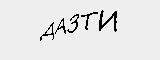А: (53, 13, 67, 40)
Д: (39, 18, 56, 45)
З: (67, 10, 80, 35)
И: (97, 7, 120, 34)
Т: (79, 9, 99, 35)
